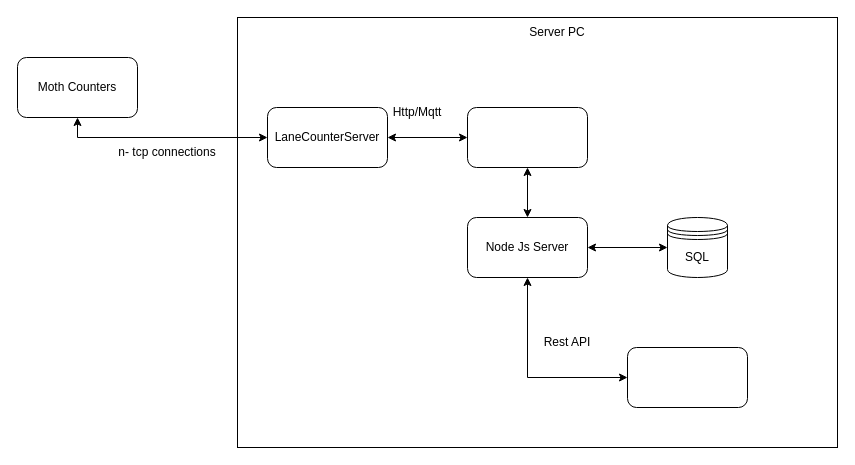
The diagram is 855 pixels wide and 465 high, and some of its shapes have lost their labels. Here are the shapes that lost their labels. From the top down, the centre of each, then its label:
At point (527, 137): "Rest API/mqtt Broker".
At point (687, 377): "Web UI".
